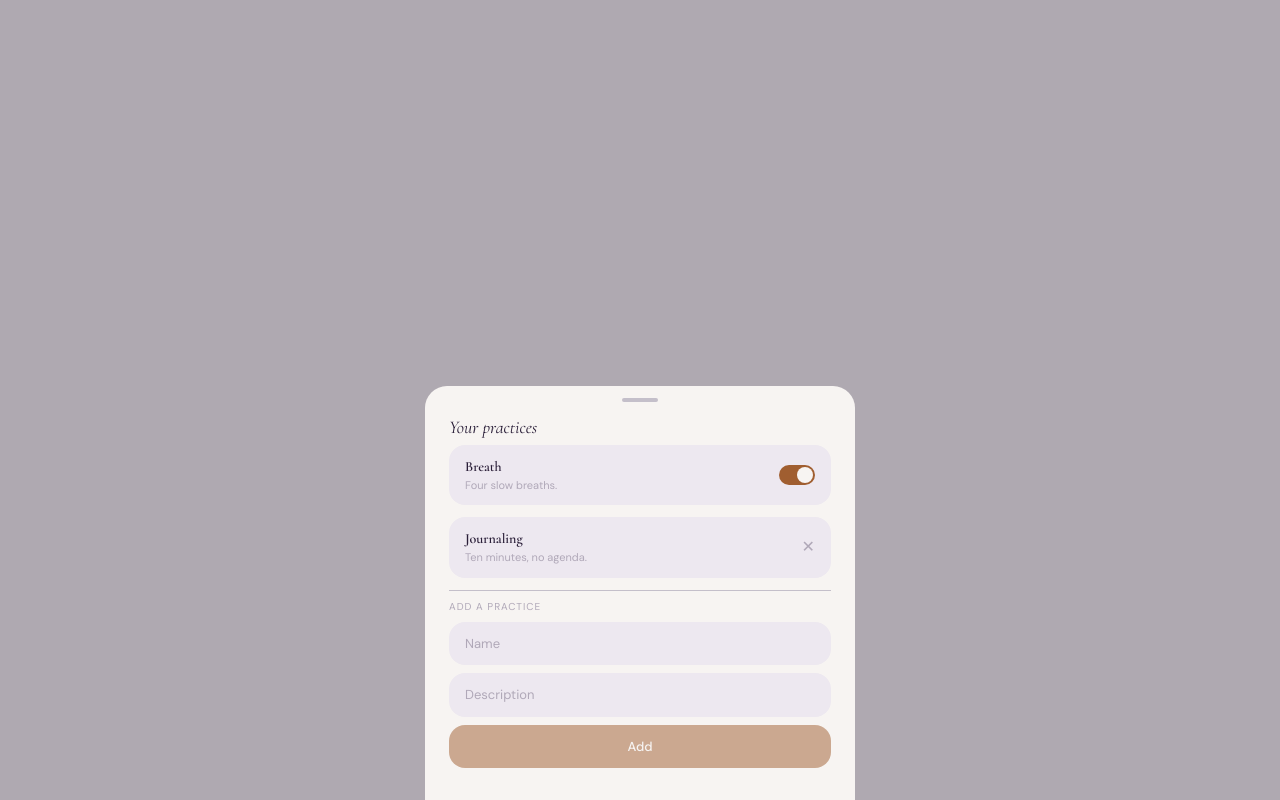
Test: PracticeEditor › cancelling deletion hides confirmation without deleting
This screenshot has width=1280, height=800.
Click the button named "Remove practice" at (808, 547), box x1=802 y1=539 x2=815 y2=555
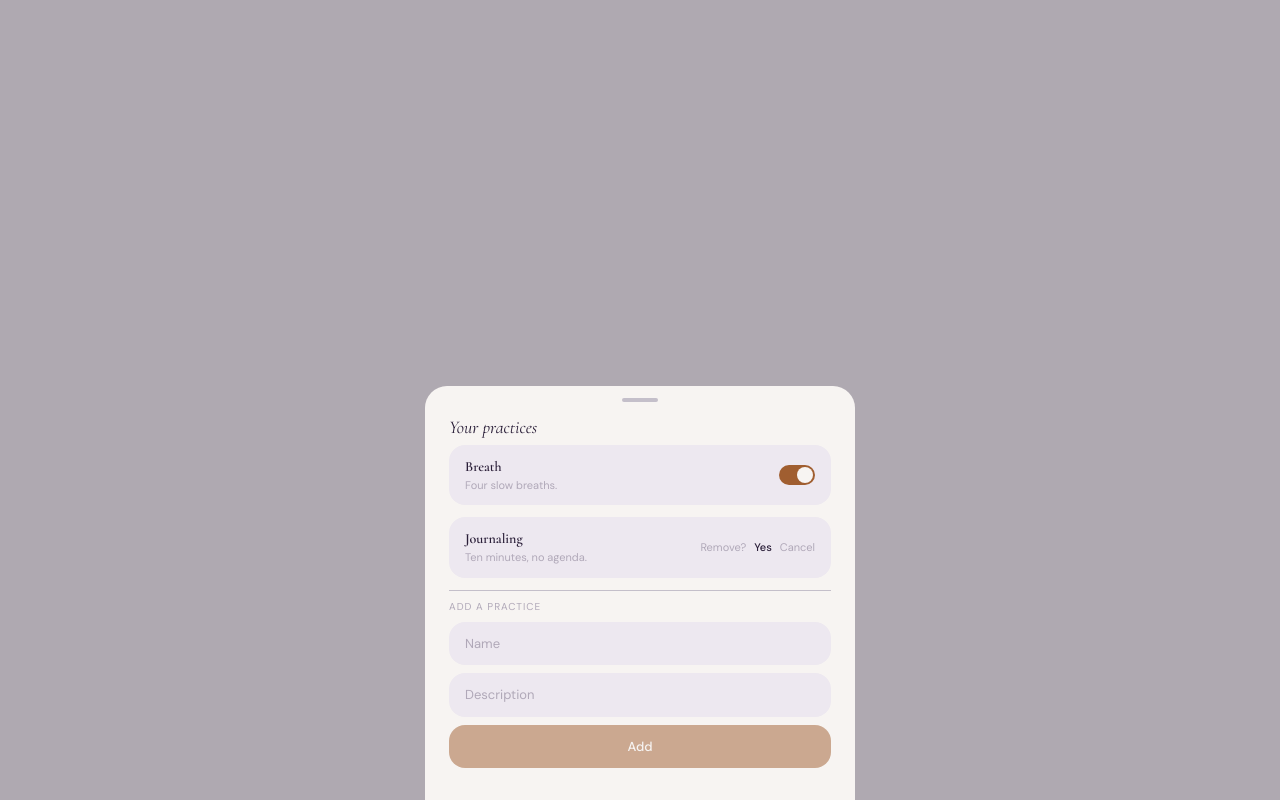
Click the button "Cancel" at (797, 547), box x1=780 y1=539 x2=815 y2=556
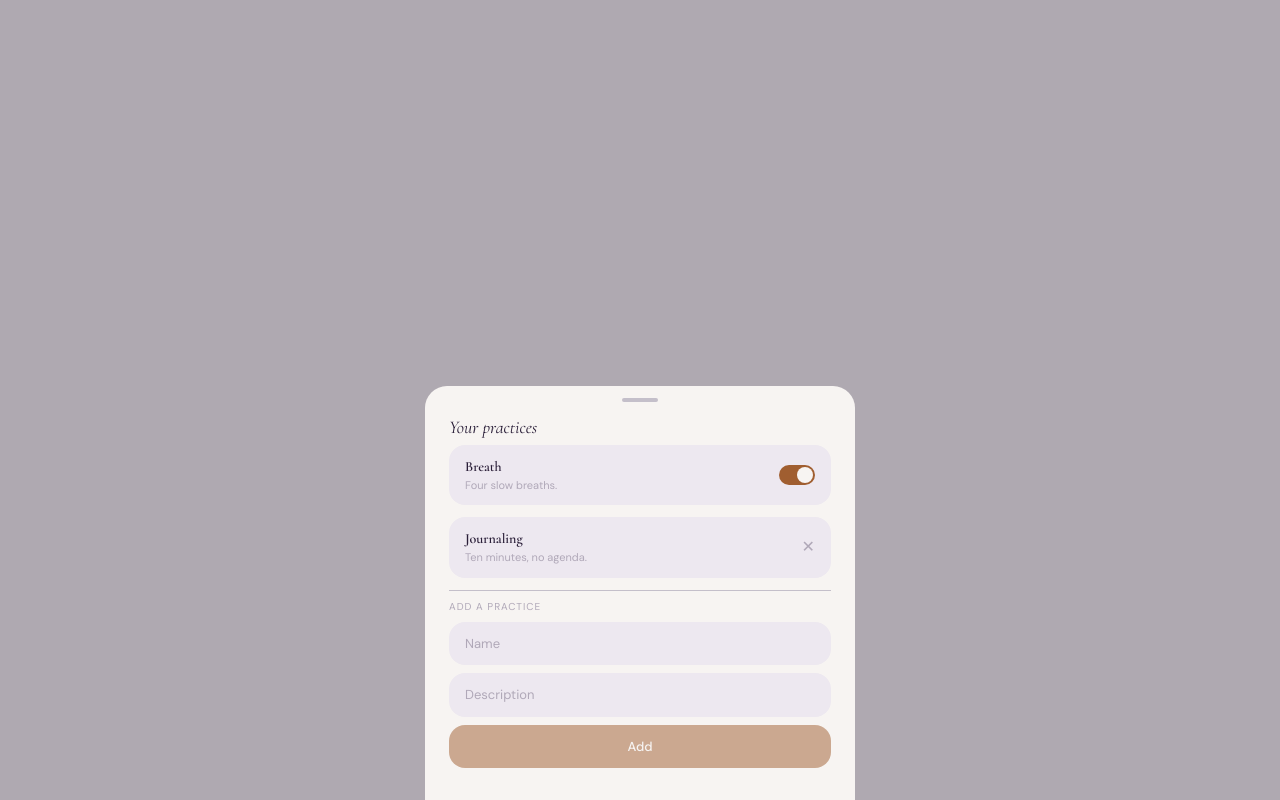
Now the text "Remove?" is gone
